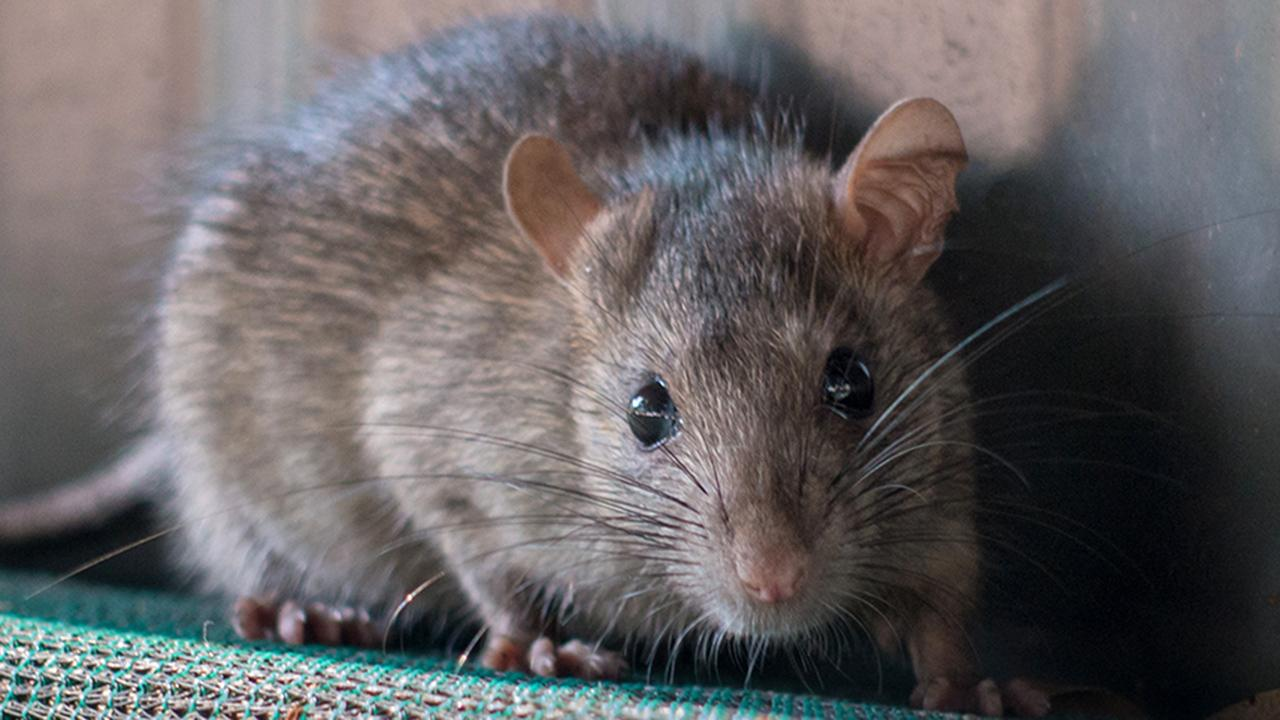rat: (132, 3, 1082, 720)
